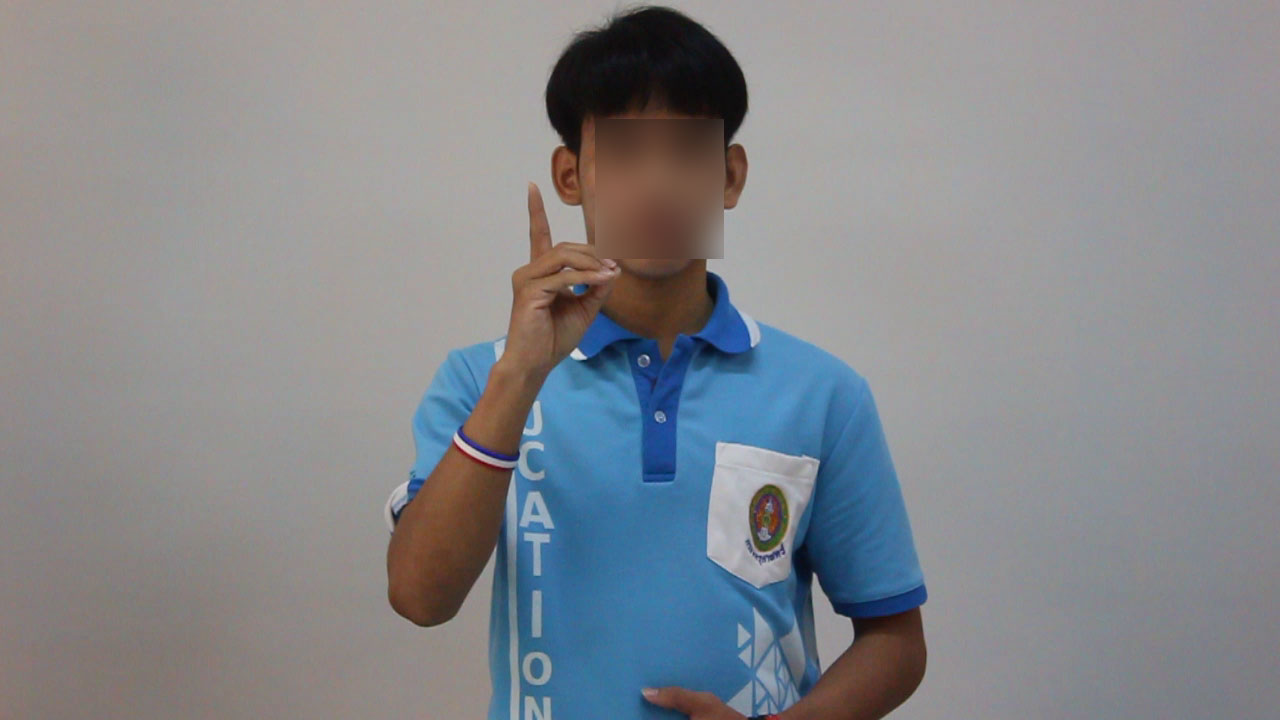dor: (489, 178, 626, 374)
